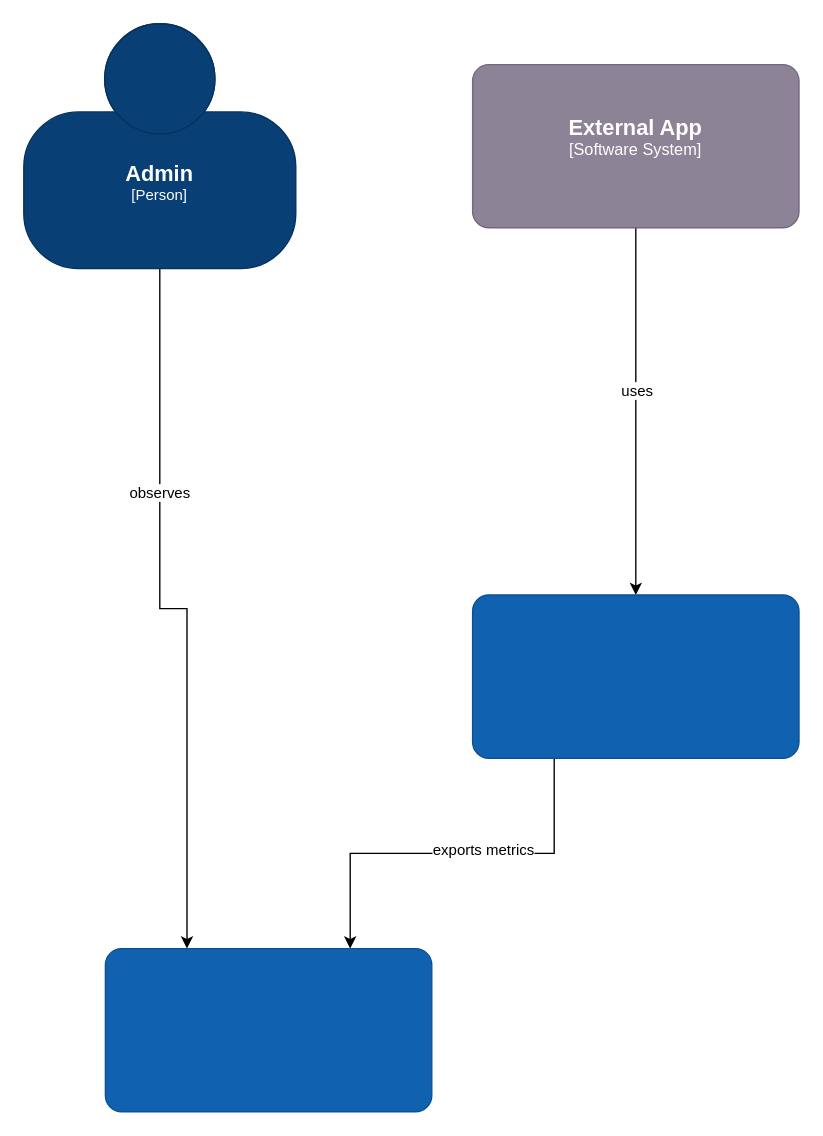
This 823x1136 diagram has some shape labels left out. The centre of each missing label's shape, as x and y in pixels:
HA Postgres App [Software System] HA Postgres: point (635, 676)
Prometheus Monitoring Stack [Software System]: point (268, 1029)
